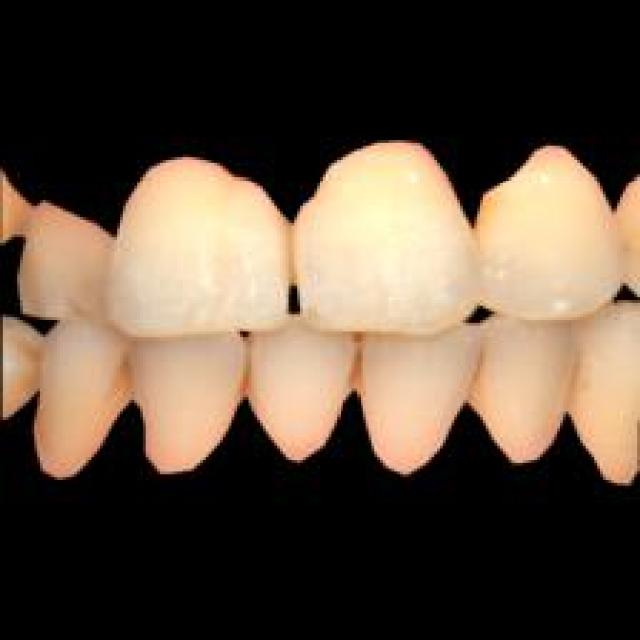cavity: (17, 334, 43, 406), (9, 192, 37, 237), (117, 351, 137, 403), (234, 357, 260, 397), (468, 183, 492, 223), (348, 348, 366, 386), (469, 354, 480, 397)
tooth: (297, 126, 472, 331), (111, 148, 286, 332), (474, 126, 617, 320), (354, 332, 472, 477), (131, 332, 246, 474), (477, 311, 572, 463), (34, 317, 117, 474), (251, 326, 346, 463), (11, 194, 106, 314), (580, 303, 637, 486), (0, 314, 43, 426)
